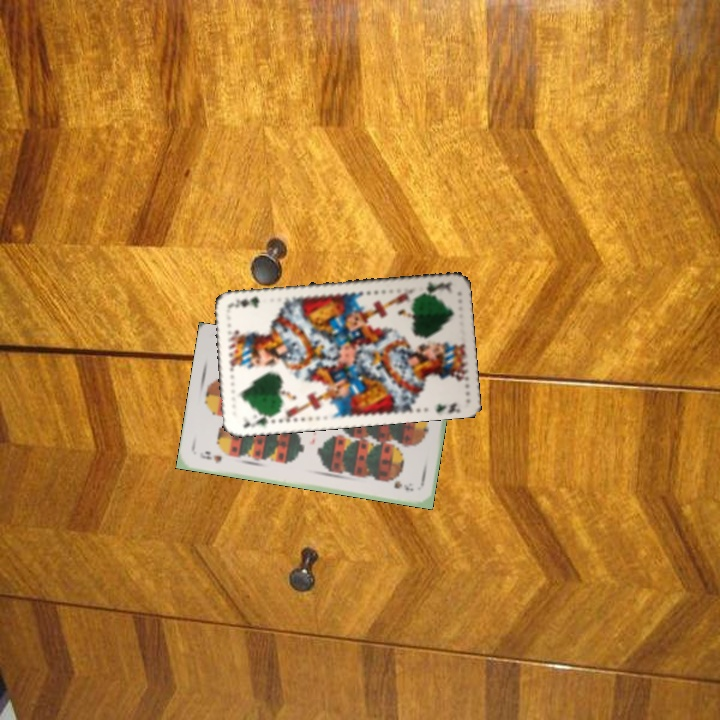GK: (239, 410, 276, 431), (416, 277, 454, 296)
S9: (196, 448, 225, 466)
